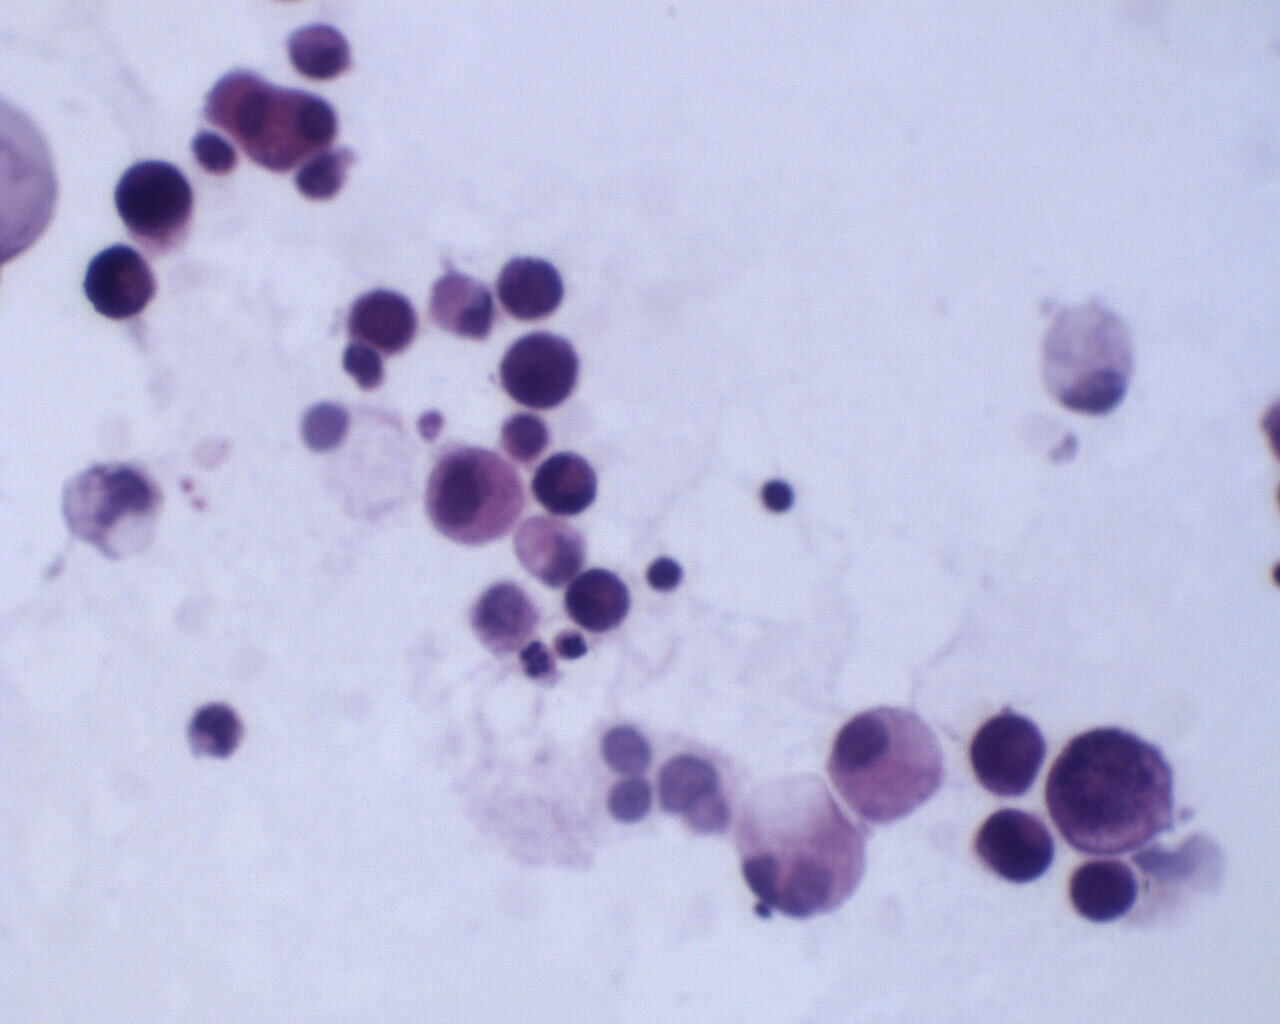ab: (1047, 720, 1183, 855), (424, 440, 531, 550), (964, 707, 1050, 798), (974, 802, 1064, 887), (110, 159, 196, 245), (496, 330, 586, 412), (79, 240, 164, 325), (1067, 853, 1146, 928), (346, 287, 420, 360), (494, 253, 568, 325), (529, 451, 602, 519), (563, 566, 634, 634)
histo: (825, 699, 950, 825), (1033, 298, 1146, 425)
lymph: (645, 553, 689, 599), (758, 475, 796, 516)
neutro: (515, 638, 560, 688)
